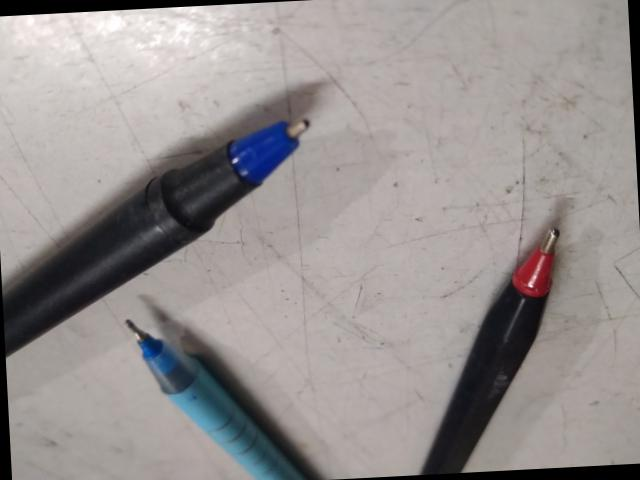PEN: (307, 172, 640, 380), (302, 0, 532, 177), (55, 8, 216, 259)
